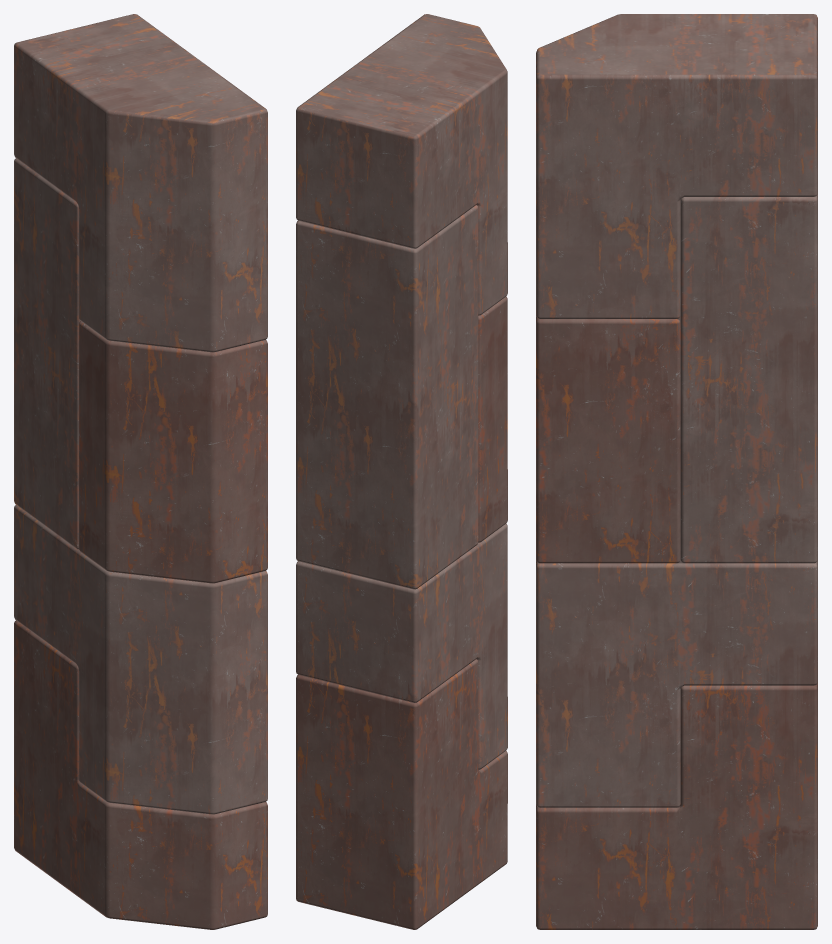
File: wall_004.fbx
The picture shows the model from 3 angles, left to right: view 1: azimuth 30°, elevation 25°; view 2: azimuth 150°, elevation 25°; view 3: azimuth 270°, elevation 25°; orthographic projection. The views are drawn at different scales.
Parts seen in each view (by area): view 1: wall_004; view 2: wall_004; view 3: wall_004.
Boxes of the visible parts, bbox=[...] form: wall_004: bbox=[14, 14, 267, 929]; wall_004: bbox=[296, 14, 507, 929]; wall_004: bbox=[536, 14, 817, 929].
Bounding box in the file's own units: 3864 × 7210 × 24154.
